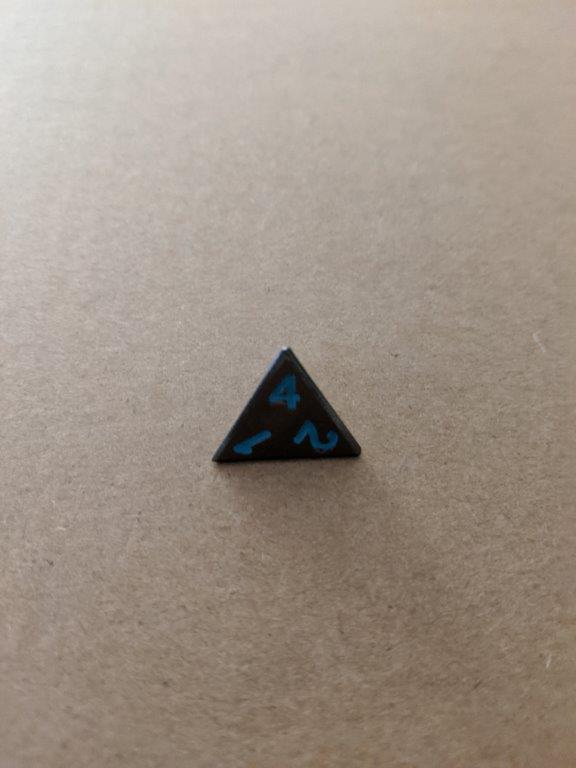d4-4: (205, 346, 367, 466)
